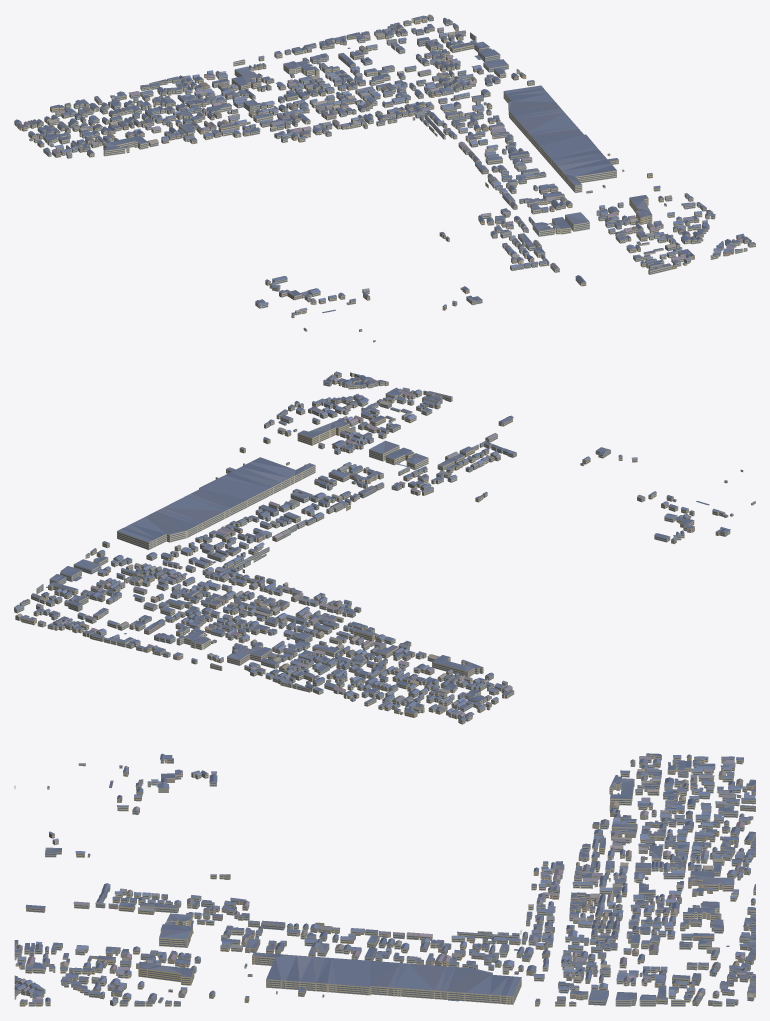
Rendered from ART_EastHikoneWest.lod.glb.
3 renders of one model, top to bottom at view 1: azimuth 30°, elevation 25°; view 2: azimuth 150°, elevation 25°; view 3: azimuth 270°, elevation 25°, orthographic. The views are drawn at different scales.
Visible parts, largest first — view 1: ART_EastHikoneWest; view 2: ART_EastHikoneWest; view 3: ART_EastHikoneWest.
Part boxes in pixels (x1,y1,x2,y2): ART_EastHikoneWest: [14, 14, 755, 342]; ART_EastHikoneWest: [14, 371, 755, 724]; ART_EastHikoneWest: [14, 753, 755, 1006].
Size of the model in its own units: 815 by 13 by 1026.
